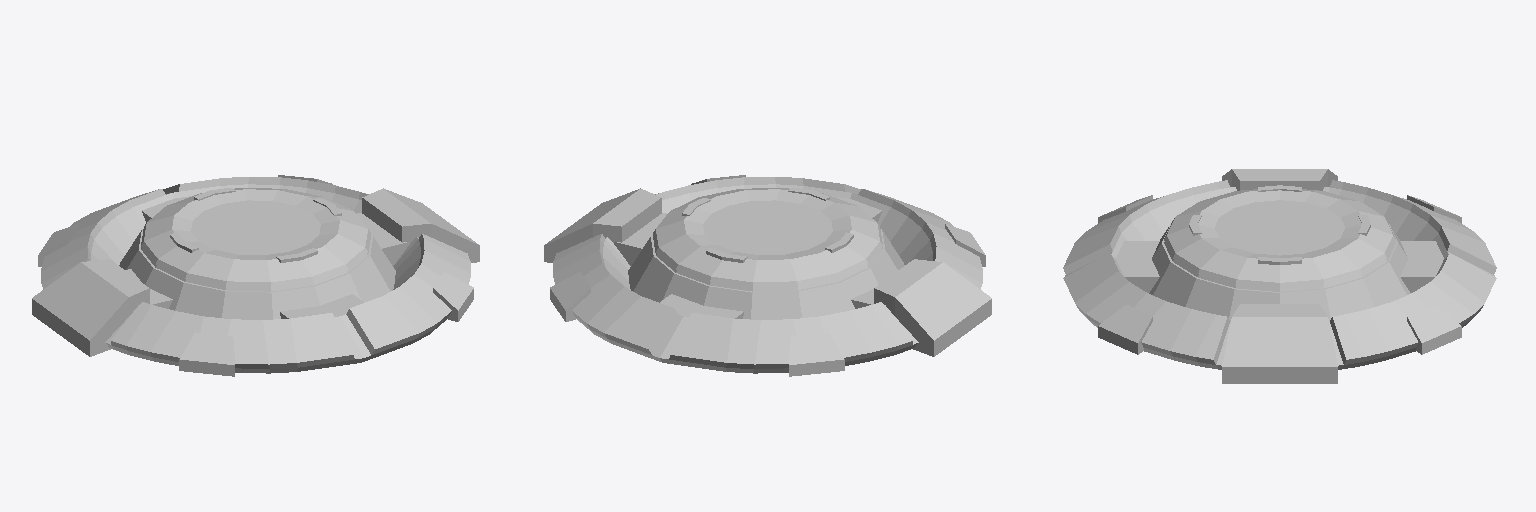
The model's file is Turret_Cannon_Base_Cylinder_004.obj.
3 renders of one model, left to right at view 1: azimuth 30°, elevation 25°; view 2: azimuth 150°, elevation 25°; view 3: azimuth 270°, elevation 25°, orthographic.
Parts seen in each view (by area): view 1: Turret_Cannon_Base_Cylinder.004; view 2: Turret_Cannon_Base_Cylinder.004; view 3: Turret_Cannon_Base_Cylinder.004.
Boxes of the visible parts, x1=… form: Turret_Cannon_Base_Cylinder.004: x1=32, y1=175, x2=479, y2=376; Turret_Cannon_Base_Cylinder.004: x1=544, y1=175, x2=991, y2=376; Turret_Cannon_Base_Cylinder.004: x1=1063, y1=169, x2=1496, y2=383.
Bounding box in the file's own units: 1.16 × 0.1832 × 1.11.